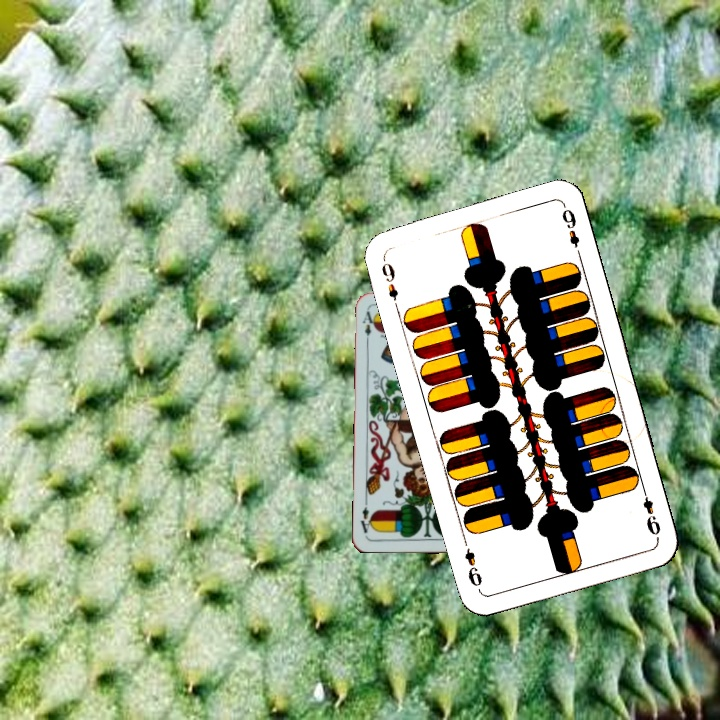E9: (637, 482, 663, 540), (377, 254, 402, 313)
EA: (359, 307, 378, 347)
